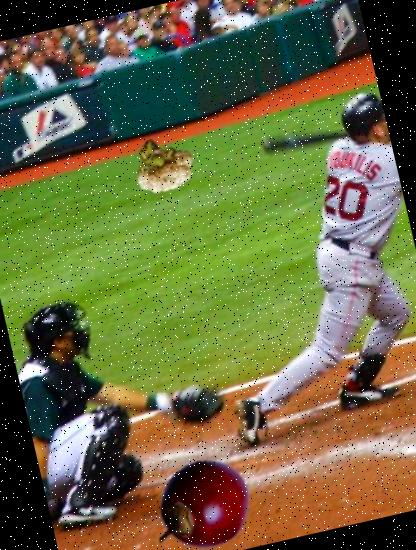Cauliflower: (124, 126, 200, 202)
Tamarillo: (143, 445, 261, 550)
